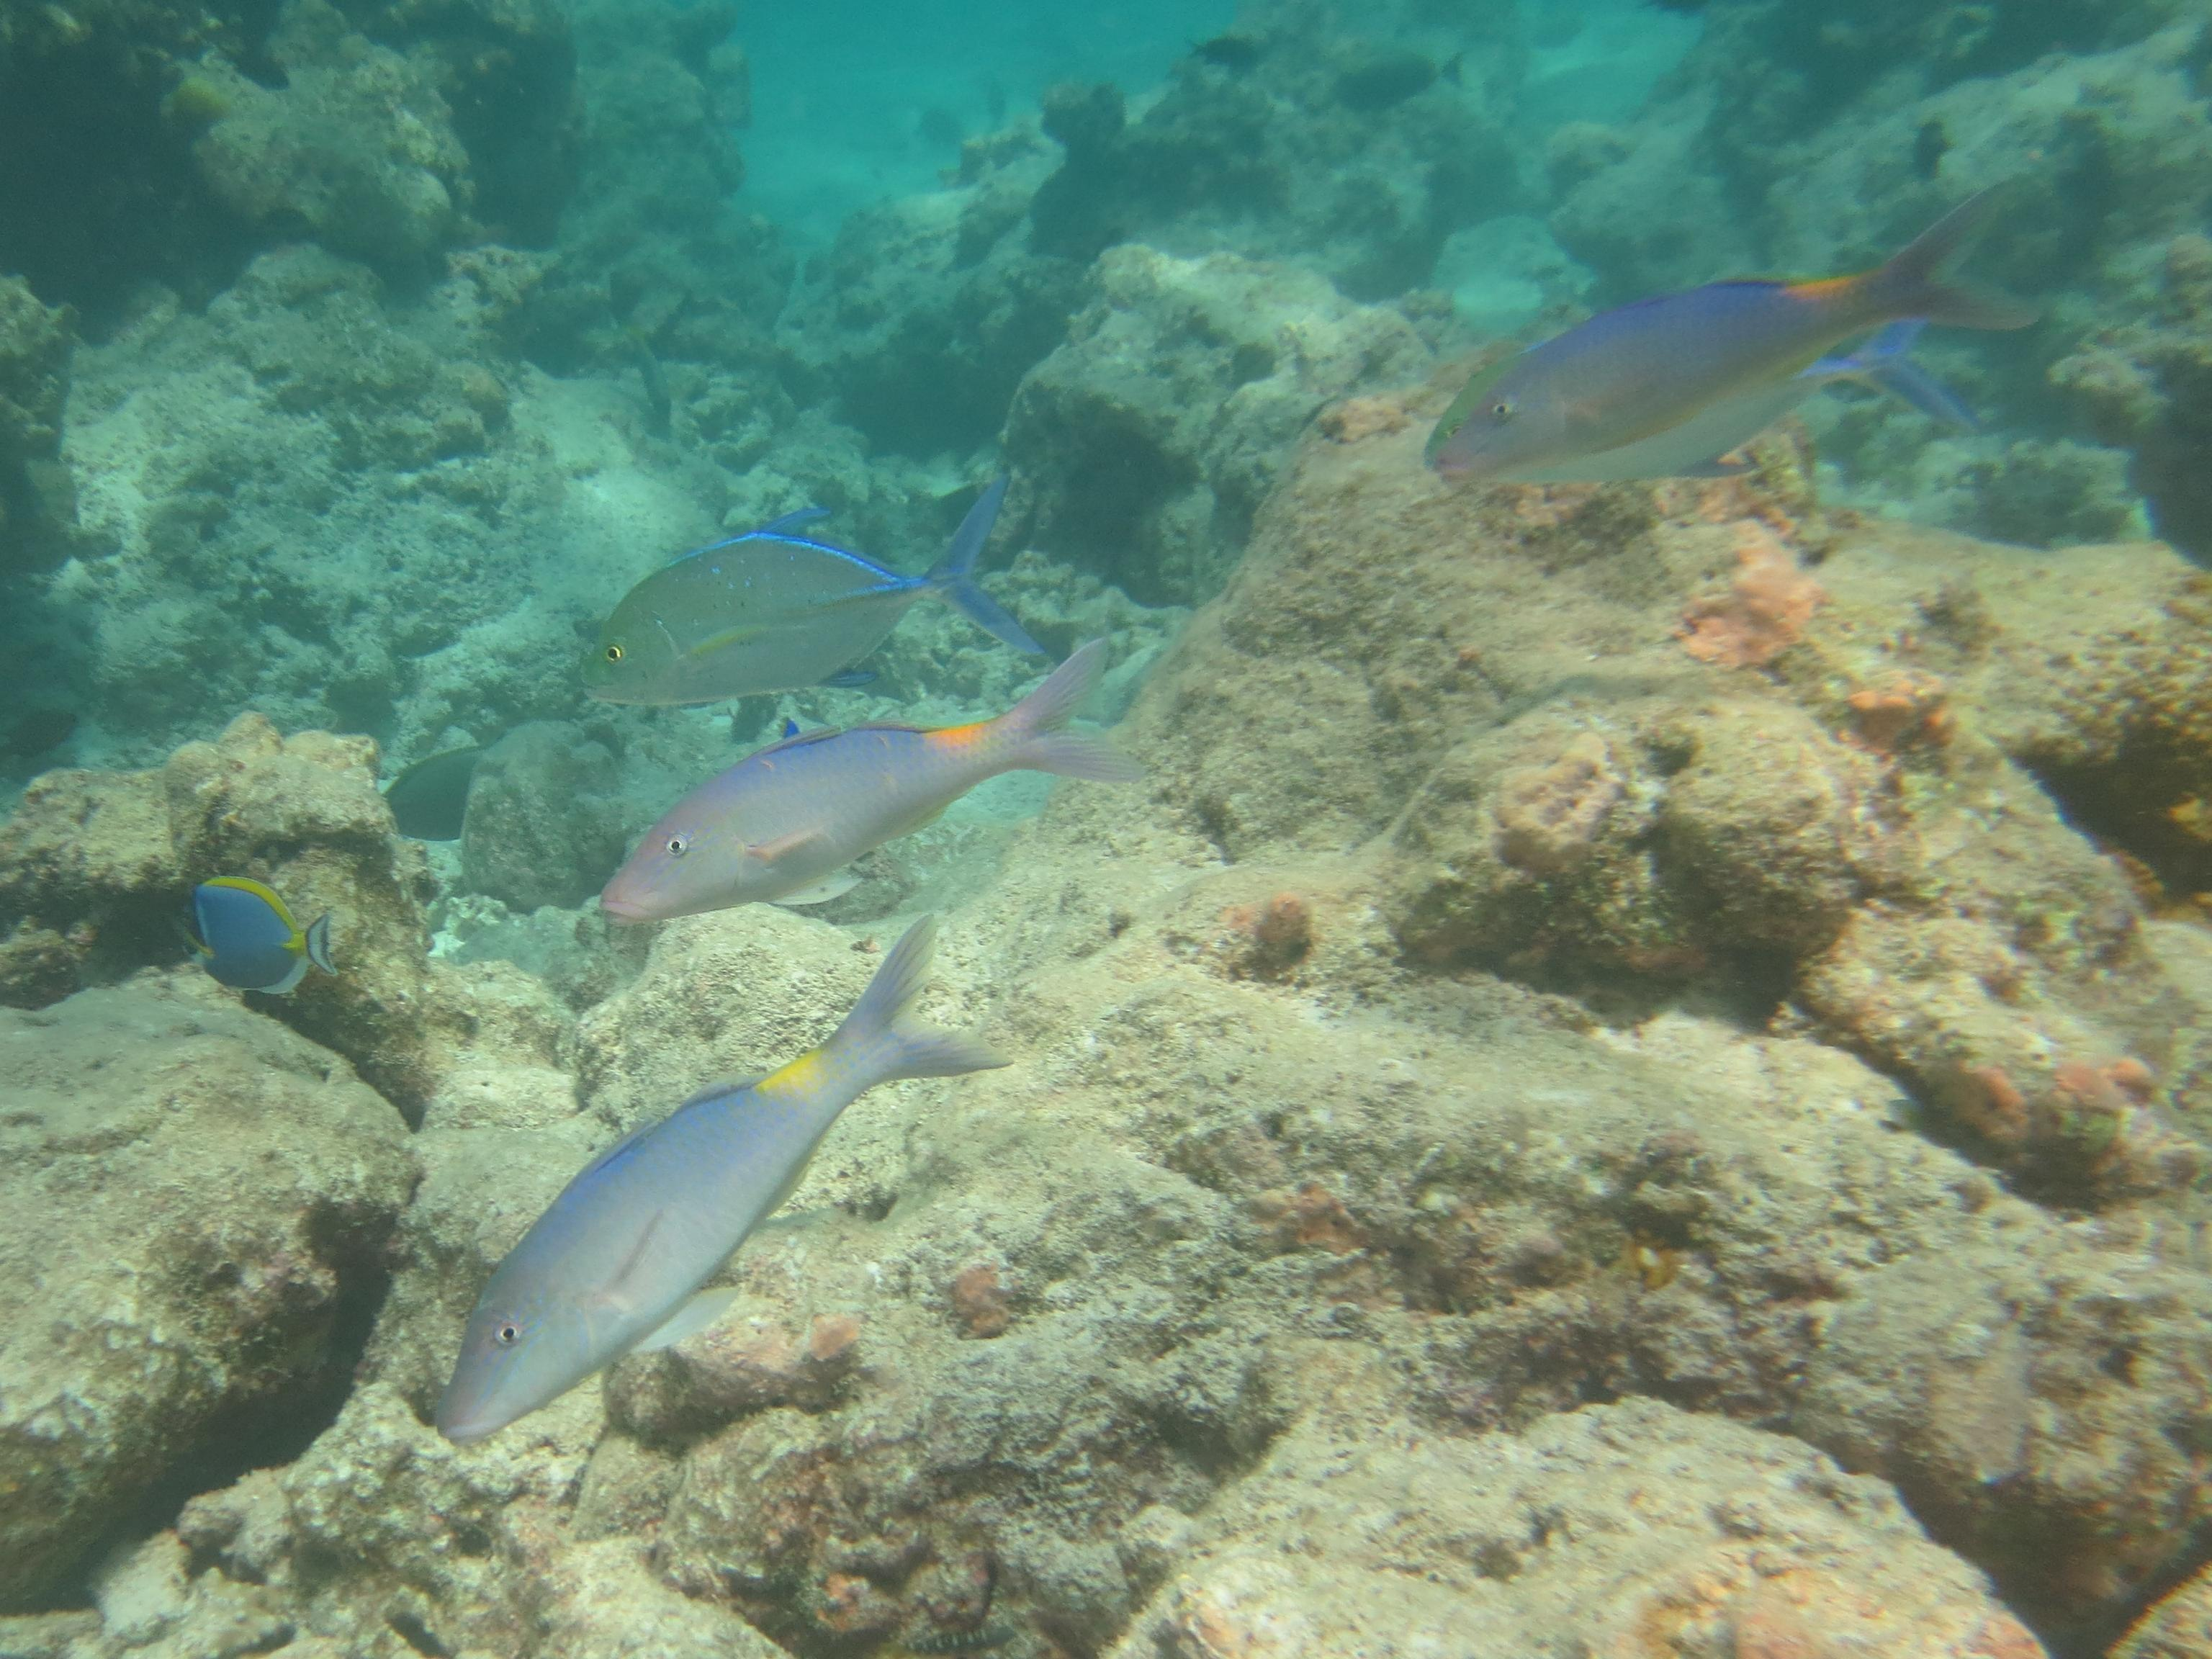Fish: (359, 908, 995, 1499), (1381, 162, 2047, 490), (570, 580, 1139, 945)
